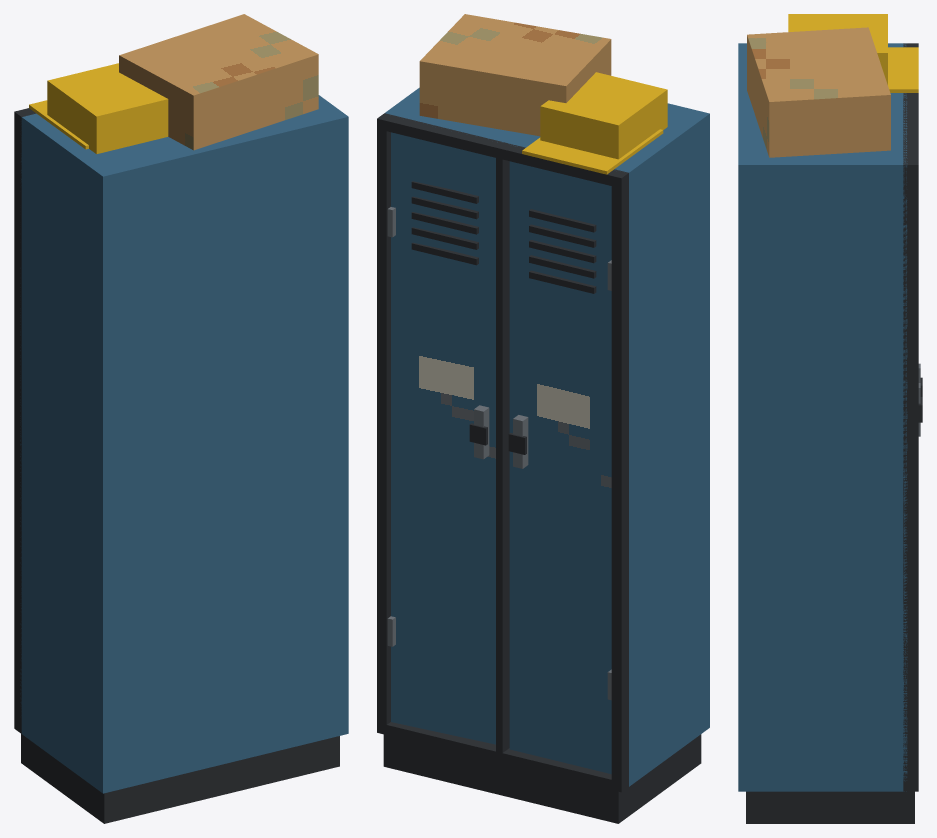
The model's file is locker.glb.
3 views of the same model, side by side, from view 1: azimuth 30°, elevation 25°; view 2: azimuth 150°, elevation 25°; view 3: azimuth 270°, elevation 25° (orthographic). The views are drawn at different scales.
Visible parts, largest first — view 1: locker; view 2: locker; view 3: locker.
Part boxes in pixels (x1,y1,x2,y2): locker: [14, 14, 348, 823]; locker: [377, 14, 709, 823]; locker: [738, 14, 922, 823].
Size of the model in its own units: 0.75 by 2.06 by 0.48.
Materials: 6 (6 with a texture image).
